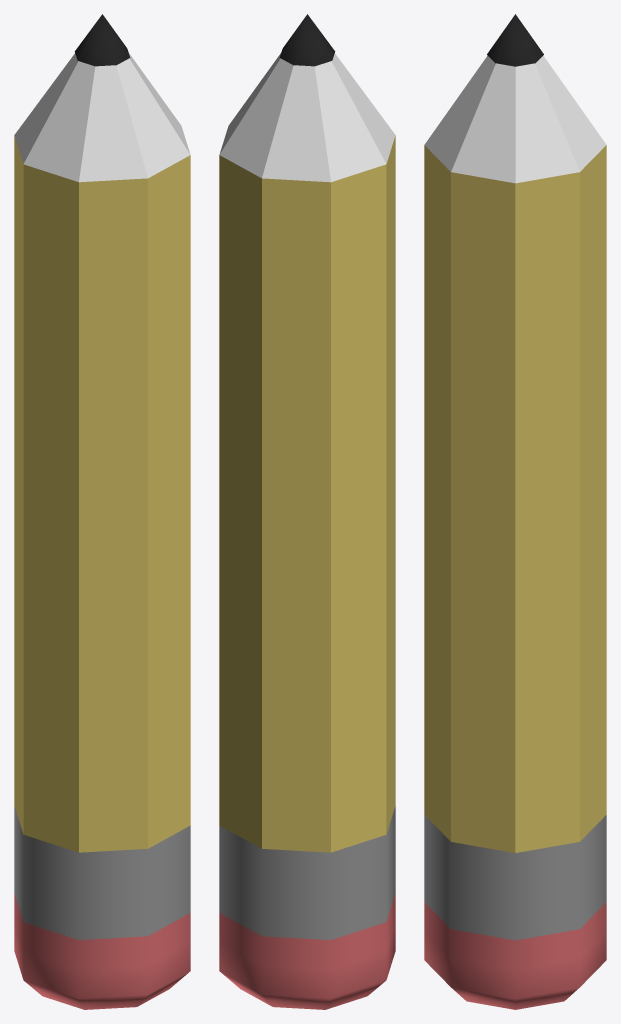
The model's file is bleistift.glb.
3 views of the same model, side by side, from view 1: azimuth 30°, elevation 25°; view 2: azimuth 150°, elevation 25°; view 3: azimuth 270°, elevation 25° (orthographic).
Parts seen in each view (by area): view 1: Zylinder, Zylinder.003, Zylinder.002, Zylinder.001, Zylinder.004; view 2: Zylinder, Zylinder.003, Zylinder.002, Zylinder.001, Zylinder.004; view 3: Zylinder, Zylinder.003, Zylinder.002, Zylinder.001, Zylinder.004.
Part boxes in pixels (x1,y1,x2,y2): Zylinder: (14, 135, 190, 852); Zylinder.003: (14, 806, 190, 939); Zylinder.002: (14, 53, 190, 182); Zylinder.001: (14, 893, 190, 1009); Zylinder.004: (74, 14, 130, 66); Zylinder: (219, 135, 395, 852); Zylinder.003: (219, 806, 395, 939); Zylinder.002: (219, 53, 395, 182); Zylinder.001: (219, 893, 395, 1009); Zylinder.004: (279, 14, 335, 66); Zylinder: (424, 145, 606, 852); Zylinder.003: (424, 815, 606, 940); Zylinder.002: (424, 55, 606, 183); Zylinder.001: (424, 902, 606, 1009); Zylinder.004: (487, 14, 543, 66).
Bounding box in the file's own units: 0.4932 × 2.89 × 0.4932.
